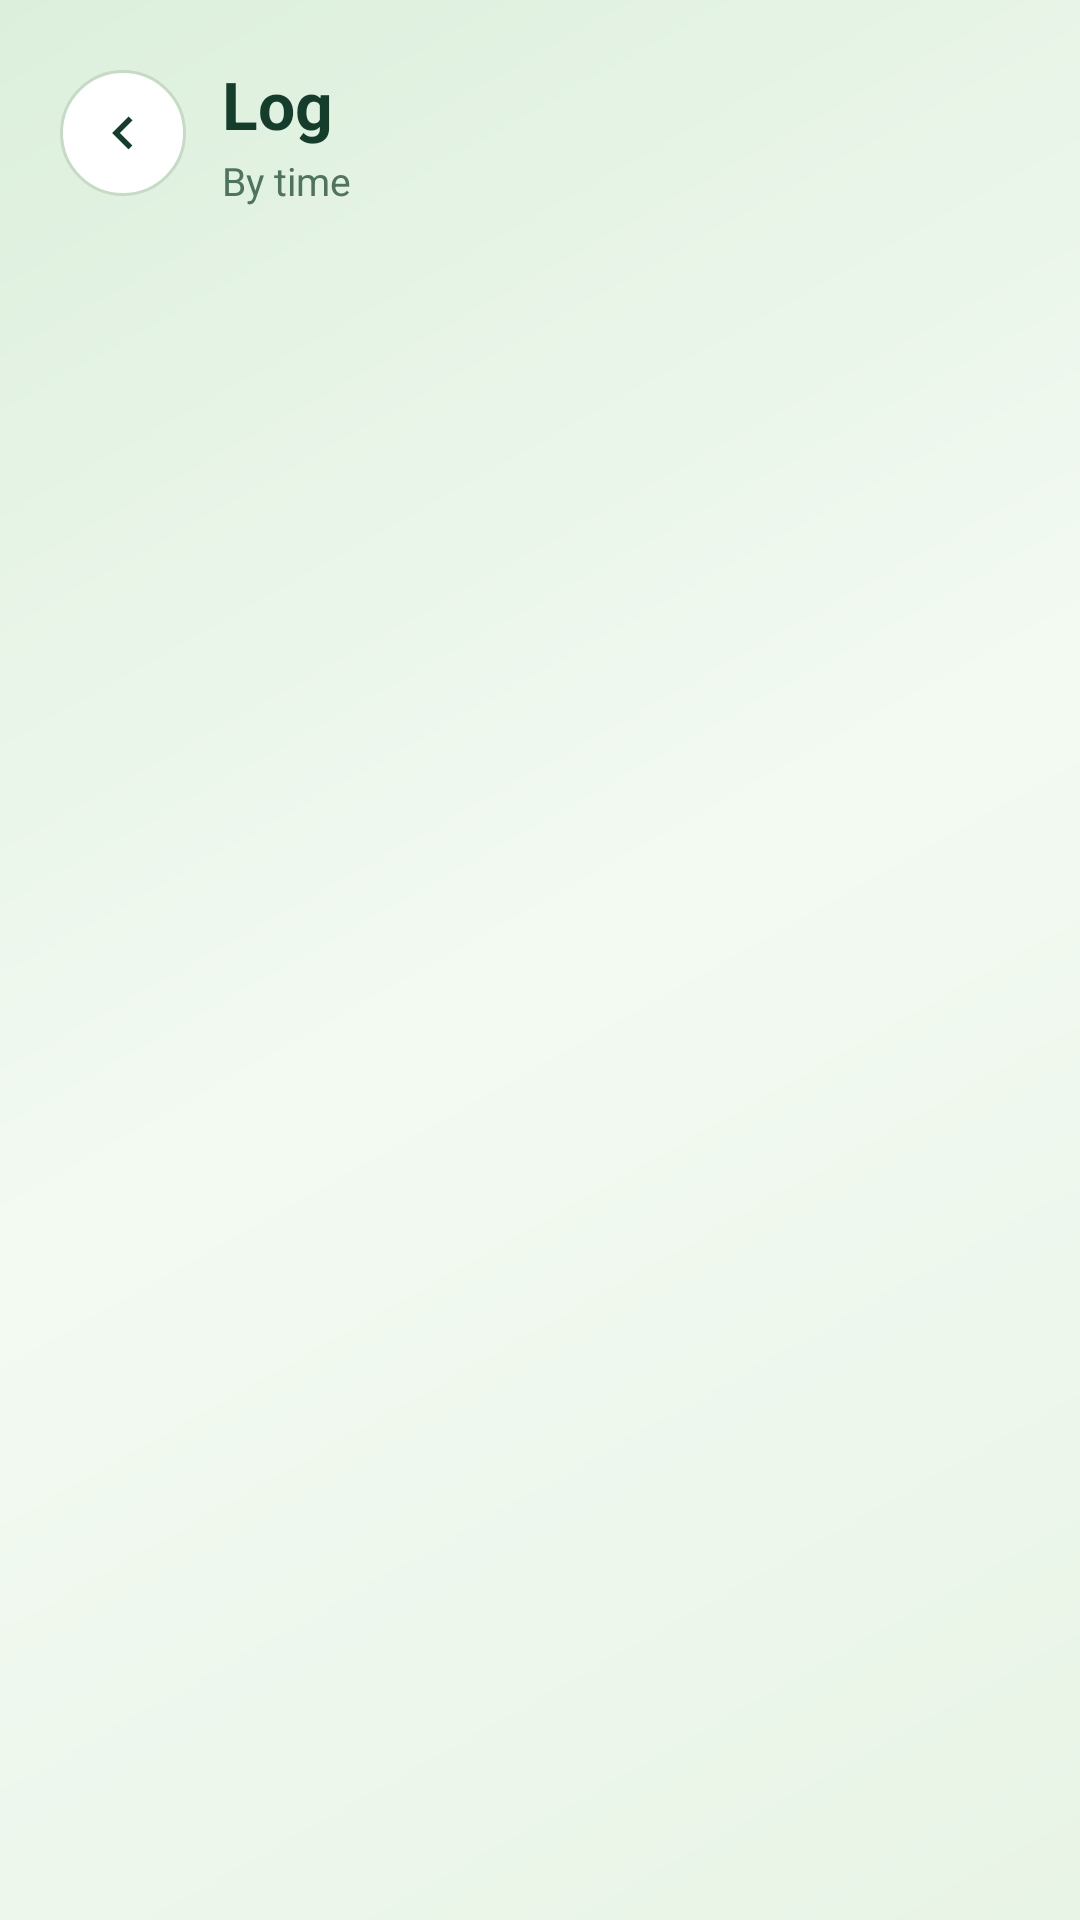

Icons on this 1080*1920 Android screen, each with the point to tap as point (x, y):
back: point (123, 133)
